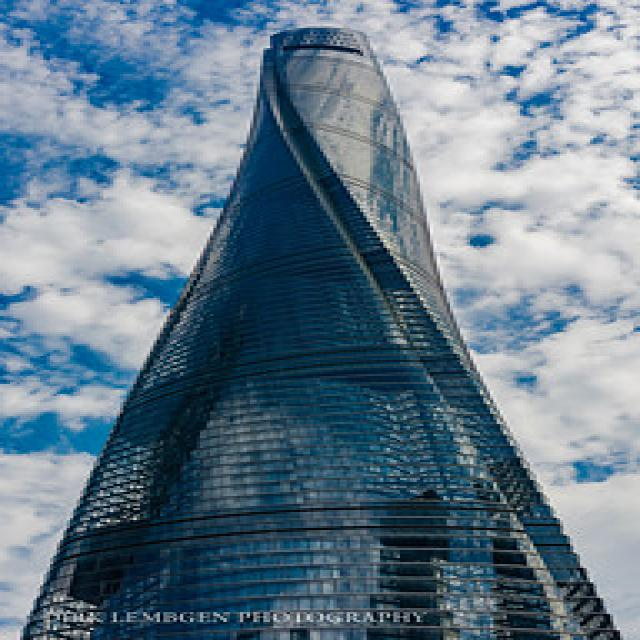building: (19, 26, 628, 638)
